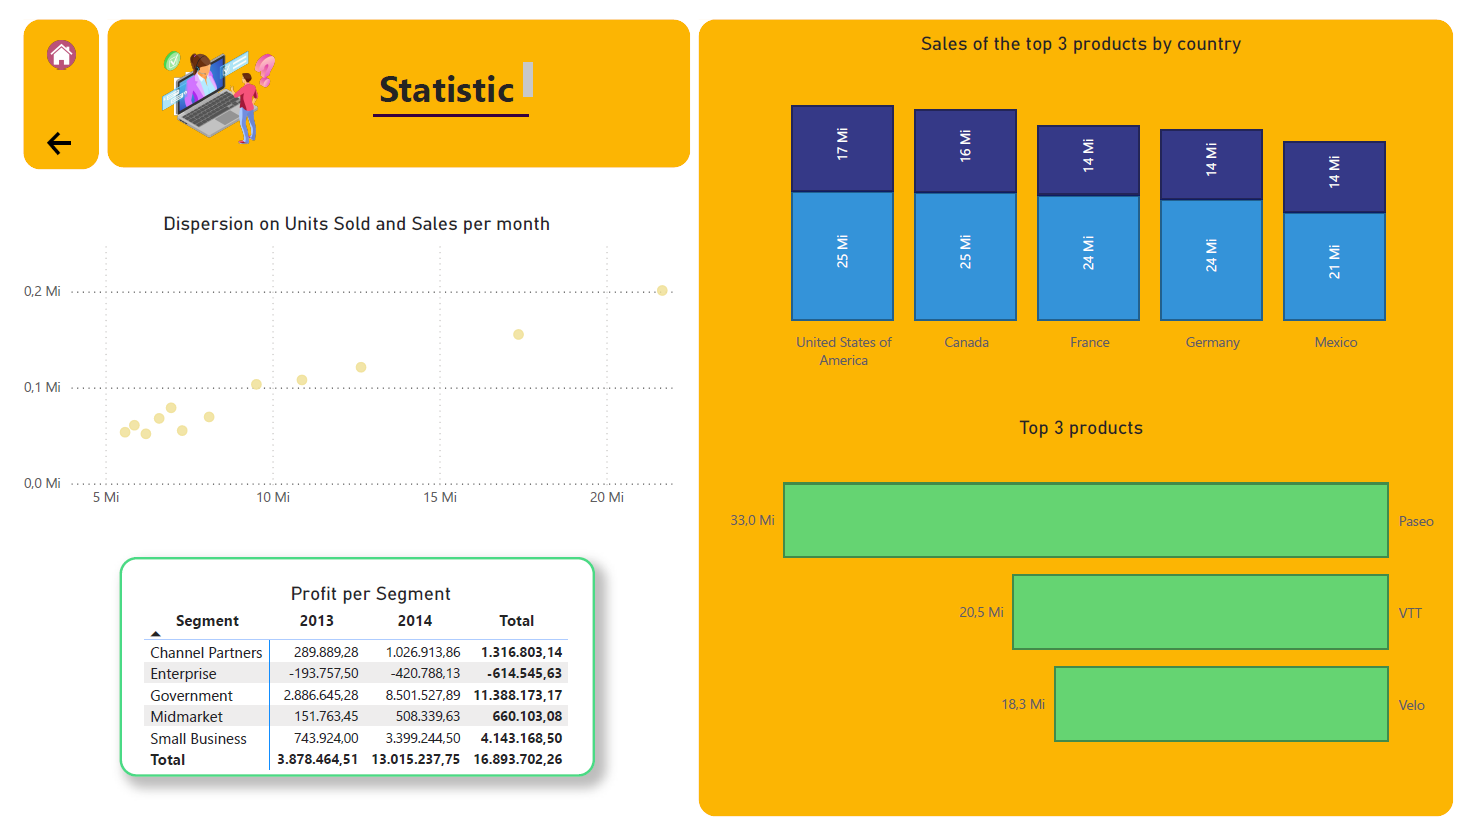

The dashboard page shown, as its layout file describes it:
{"tool":"powerbi","page":{"name":"Statistics","canvas":[1280,720],"ordinal":3},"visuals":[{"type":"shape","box":[607.5,10,666.7,704.2],"z":0},{"type":"shape","box":[10.8,10,66.7,132.5],"z":1000,"group":"g3"},{"type":"shape","box":[85,10,515,130.8],"z":1000,"group":"g2"},{"type":"columnChart","title":"Sales of the top 3 products by country","fields":{"Y":["Sum(financials. Sales)","financials.TOP3 PRODUCT"],"Category":["financials.Country"]},"box":[620.8,20.8,639.2,310.8],"z":1000},{"type":"shape","box":[320,78.3,136.7,32.5],"z":1500,"group":"g2"},{"type":"scatterChart","title":"Dispersion on Units Sold and Sales per month","fields":{"Category":["financials.Date.Variation.Hierarquia de datas.Mês"],"Y":["Sum(financials.Units Sold)"],"X":["Sum(financials. Sales)"]},"box":[10.8,180,589.2,265],"z":1500,"group":"g1"},{"type":"actionButton","title":"Botão - Back","box":[28.4,105,29.2,30],"z":1750,"group":"g3"},{"type":"image","box":[26.6,20.8,35,41.7],"z":2000,"group":"g3"},{"type":"textbox","box":[320,43.3,145.8,45.8],"z":2000,"group":"g2"},{"type":"pivotTable","title":"Profit per Segment","fields":{"Values":["Sum(financials.Profit)"],"Columns":["financials.Date.Variation.Hierarquia de datas.Ano"],"Rows":["financials.Segment"]},"box":[95.8,485,420,194.2],"z":2000},{"type":"image","box":[122.5,24.2,120.8,109.2],"z":3000,"group":"g2"},{"type":"actionButton","title":"Botão - Home","box":[31.6,25.8,24.2,26.7],"z":3000,"group":"g3"},{"type":"group","id":"g1","title":"Sales x Time","box":[10.8,180,589.2,265],"z":3000},{"type":"group","id":"g2","title":"Home","box":[85,10,515,130.8],"z":4000},{"type":"group","id":"g3","title":"Nav","box":[10.8,10,66.7,132.5],"z":5000},{"type":"clusteredBarChart","title":"Top 3 products","fields":{"Category":["financials.Product"],"Y":["financials.TOP3 PRODUCT"]},"box":[620.8,360,639.2,333.3],"z":6000}]}

Visuals, with their boxes in screenshot pixels (x1, y1, x2, y2), scaled from the page's 1280x720 canvas onto the 1472x832 screenshot:
shape: box(699, 12, 1465, 825)
shape: box(12, 12, 89, 165)
shape: box(98, 12, 690, 163)
"Sales of the top 3 products by country" columnChart: box(714, 24, 1449, 383)
shape: box(368, 90, 525, 128)
"Dispersion on Units Sold and Sales per month" scatterChart: box(12, 208, 690, 514)
"Botão - Back" actionButton: box(33, 121, 66, 156)
image: box(31, 24, 71, 72)
textbox: box(368, 50, 536, 103)
"Profit per Segment" pivotTable: box(110, 560, 593, 785)
image: box(141, 28, 280, 154)
"Botão - Home" actionButton: box(36, 30, 64, 61)
"Sales x Time" group: box(12, 208, 690, 514)
"Home" group: box(98, 12, 690, 163)
"Nav" group: box(12, 12, 89, 165)
"Top 3 products" clusteredBarChart: box(714, 416, 1449, 801)
